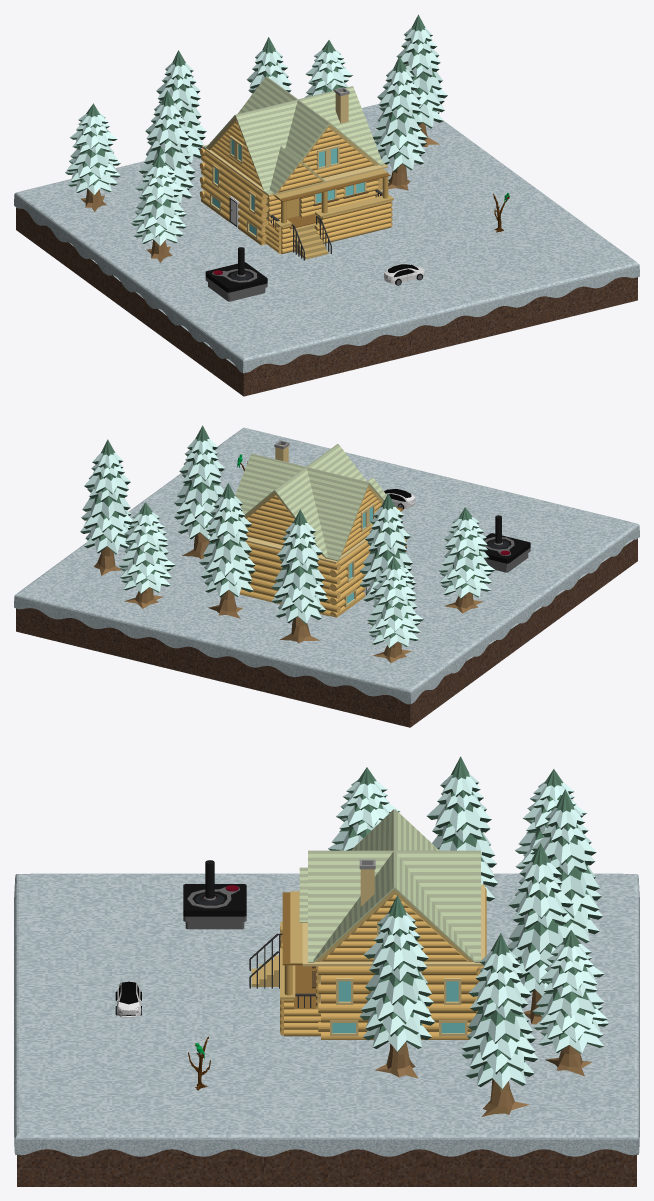
3 views of the same model, one above another, from view 1: azimuth 30°, elevation 25°; view 2: azimuth 150°, elevation 25°; view 3: azimuth 270°, elevation 25° (orthographic). The views are drawn at different scales.
Visible parts, largest first — view 1: Cube.003, Cube.1516, OBJRANDOM_JOYSTICK, VEHICLES_TESLA; view 2: Cube.003, Cube.1516, OBJRANDOM_JOYSTICK, VEHICLES_TESLA; view 3: Cube.003, Cube.1516, OBJRANDOM_JOYSTICK, VEHICLES_TESLA.
Boxes of the visible parts, box(x1,y1,x2,y2) form: Cube.003: box(14, 14, 639, 396); Cube.1516: box(199, 76, 393, 260); OBJRANDOM_JOYSTICK: box(205, 247, 267, 301); VEHICLES_TESLA: box(384, 264, 424, 285); Cube.003: box(14, 425, 639, 727); Cube.1516: box(235, 440, 407, 617); OBJRANDOM_JOYSTICK: box(484, 515, 530, 572); VEHICLES_TESLA: box(383, 489, 415, 508); Cube.003: box(14, 756, 639, 1186); Cube.1516: box(249, 809, 486, 1039); OBJRANDOM_JOYSTICK: box(183, 860, 246, 929); VEHICLES_TESLA: box(115, 981, 141, 1017).
Size of the model in its own units: 4040 by 1665 by 4040.
38 materials, 4 textured.
